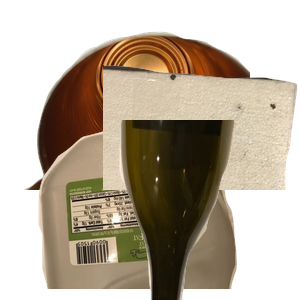glass: (117, 120, 300, 300)
metal: (21, 29, 261, 209)
plastic: (36, 120, 265, 300)
trash: (103, 62, 300, 242)
